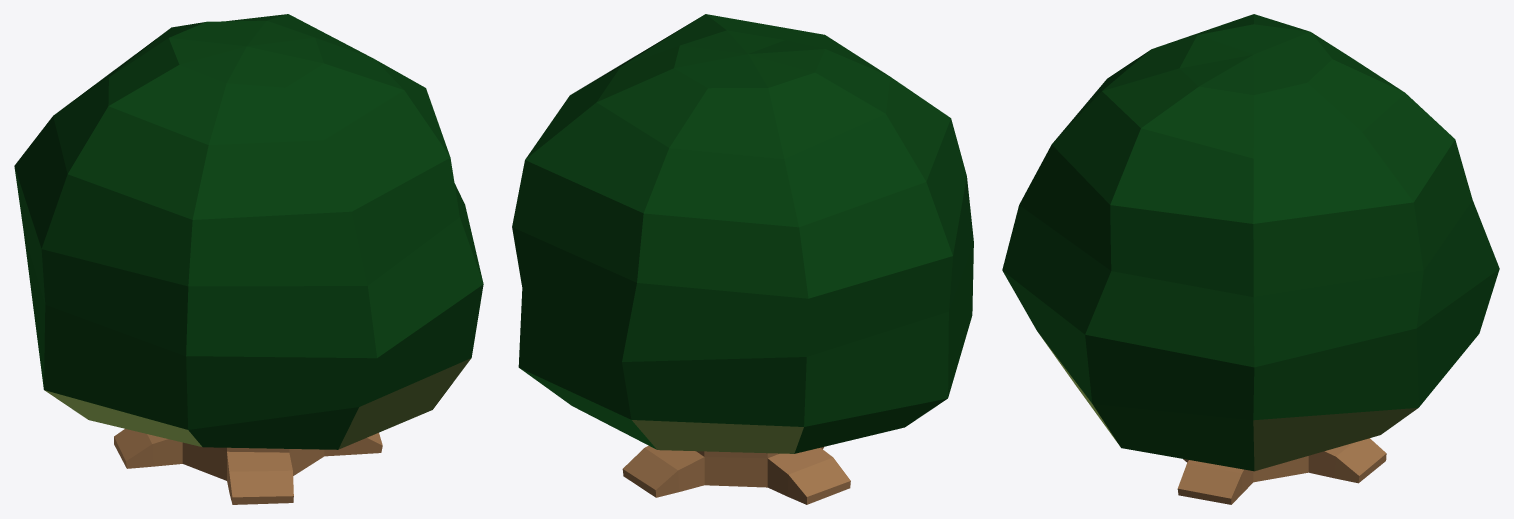
Rendered from Bush.fbx.
3 views of the same model, side by side, from view 1: azimuth 30°, elevation 25°; view 2: azimuth 150°, elevation 25°; view 3: azimuth 270°, elevation 25° (orthographic).
Parts seen in each view (by area): view 1: bush; view 2: bush; view 3: bush.
Boxes of the visible parts, left/top/right/bottom form: bush: left=14, top=14, right=483, bottom=504; bush: left=512, top=14, right=973, bottom=504; bush: left=1002, top=14, right=1499, bottom=504.
Size of the model in its own units: 203 by 184 by 210.
